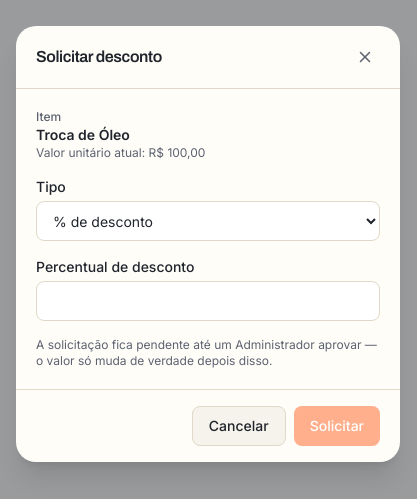
Scenario: SolicitarDescontoModal › disables "Solicitar" until a positive value is entered
Check: the button "Solicitar" is disabled, box [294,406,380,446]
Type "10" into the number field.
click(208, 301); type("10")  # box [36,281,380,321]
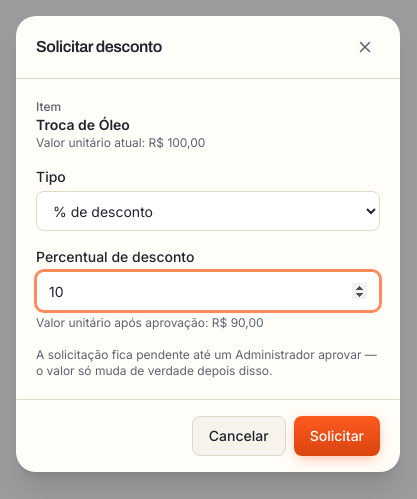
Check: the button "Solicitar" is enabled, box [294,416,380,456]
